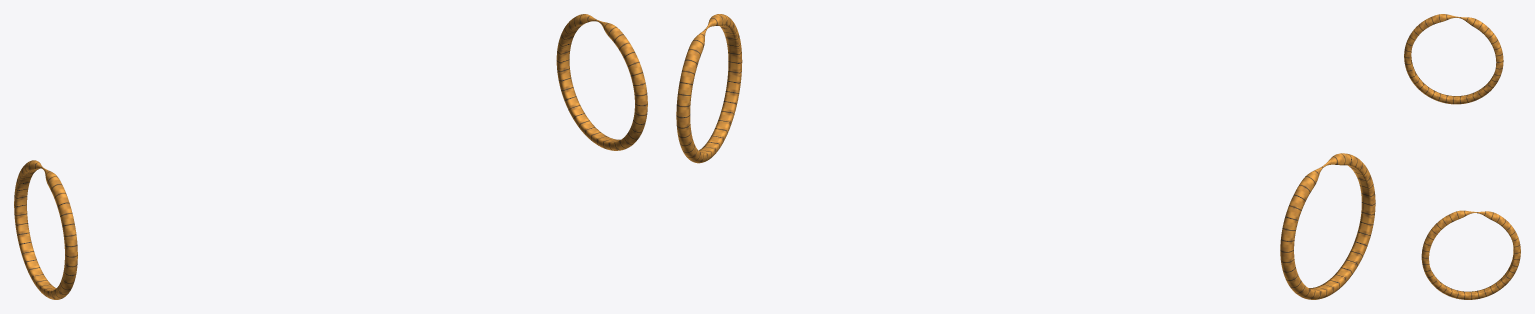
The model's file is sceneEdited.glb.
3 renders of one model, left to right at view 1: azimuth 30°, elevation 25°; view 2: azimuth 150°, elevation 25°; view 3: azimuth 270°, elevation 25°, orthographic. The views are drawn at different scales.
Visible parts, largest first — view 1: Object_5, Object_5.001; view 2: Object_5.001, Object_5; view 3: Object_5, Object_5.001.
Part boxes in pixels (x1=…): Object_5: x1=556, y1=14, x2=647, y2=150; Object_5.001: x1=14, y1=160, x2=77, y2=299; Object_5.001: x1=1280, y1=153, x2=1375, y2=299; Object_5: x1=676, y1=14, x2=742, y2=163; Object_5: x1=1421, y1=210, x2=1520, y2=299; Object_5.001: x1=1404, y1=14, x2=1503, y2=104.
Bounding box in the file's own units: 17.3 × 3.53 × 4.19.
1 material, 1 textured.
